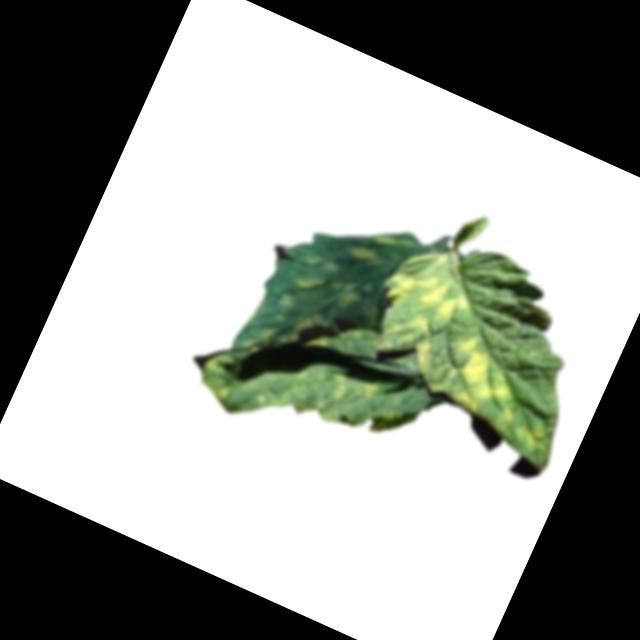Leaf_Mold: (429, 330, 538, 435), (380, 258, 476, 332), (389, 310, 444, 375), (282, 303, 335, 356), (323, 272, 363, 313), (344, 239, 384, 273), (293, 269, 327, 298), (358, 379, 382, 402), (208, 383, 230, 405)
